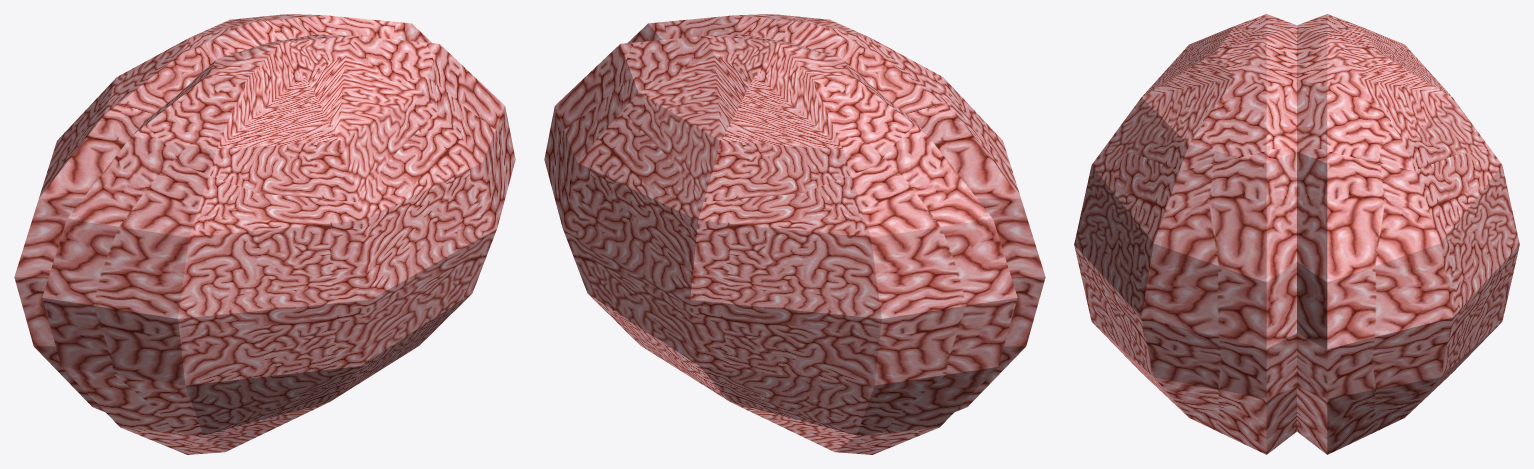
Rendered from lowpolybrain2.fbx.
The picture shows the model from 3 angles, left to right: view 1: azimuth 30°, elevation 25°; view 2: azimuth 150°, elevation 25°; view 3: azimuth 270°, elevation 25°; orthographic projection. The views are drawn at different scales.
Parts seen in each view (by area): view 1: polySurface2; view 2: polySurface2; view 3: polySurface2.
Boxes of the visible parts, box(x1,y1,x2,y2) form: polySurface2: box(14, 14, 515, 454); polySurface2: box(544, 14, 1045, 454); polySurface2: box(1074, 14, 1519, 454).
Size of the model in its own units: 3.01 by 2.37 by 2.27.
1 material, 1 textured.
